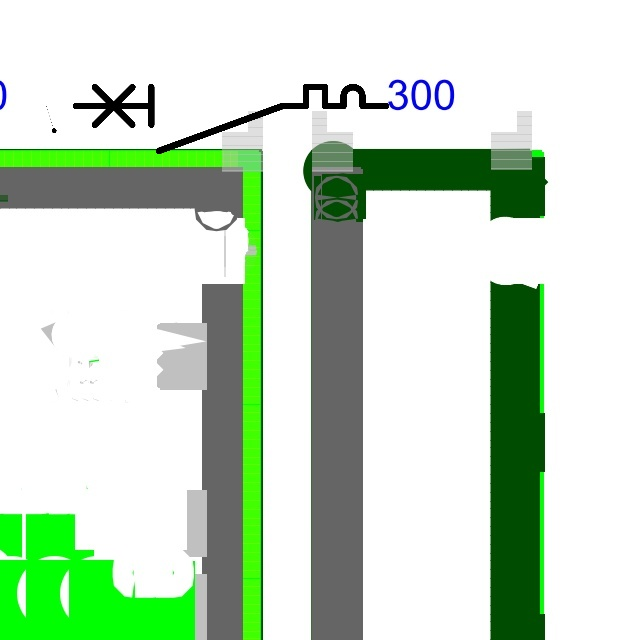interruptor_termomagnetico: (67, 79, 393, 159)
